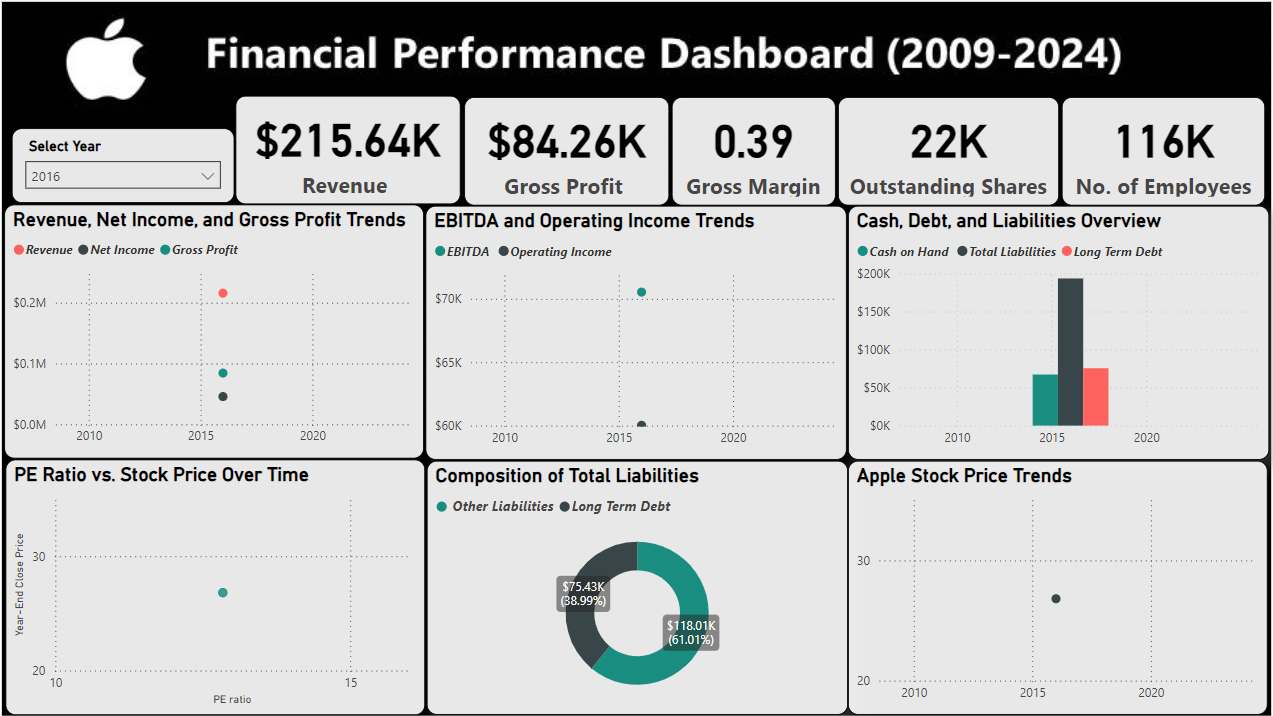

This screenshot's page, from the dashboard's own definition file:
{"tool":"powerbi","page":{"name":"Page 1","canvas":[1280,720],"ordinal":0},"visuals":[{"type":"image","box":[0,0,1280.3,720.4],"z":500},{"type":"lineChart","title":"Revenue, Net Income, and Gross Profit Trends","fields":{"Category":["Apple finance.year"],"Y":["Sum(Apple finance.Revenue (millions))","Sum(Apple finance.Net Income (millions))","Sum(Apple finance.Gross Profit (millions))"]},"box":[11.2,206.5,418,253],"z":1000},{"type":"lineChart","title":"EBITDA and Operating Income Trends","fields":{"Category":["Apple finance.year"],"Y":["Sum(Apple finance.EBITDA (millions))","Sum(Apple finance.Operating Income (millions))"]},"box":[430.4,207.7,419.2,253],"z":2000},{"type":"clusteredColumnChart","title":"Cash, Debt, and Liabilities Overview","fields":{"Category":["Apple finance.year"],"Y":["Sum(Apple finance.Cash on Hand (millions))","Sum(Apple finance.Total Liabilities (millions))","Sum(Apple finance.Long Term Debt (millions))"]},"box":[850.9,207.7,419.2,253],"z":3000},{"type":"donutChart","title":"Composition of Total Liabilities","fields":{"Y":["Sum(Apple finance.Other Liabilities)","Sum(Apple finance.Long Term Debt (millions))"]},"box":[431.7,461.5,419.2,252.5],"z":4000},{"type":"lineChart","title":"Apple Stock Price Trends","fields":{"Category":["Apple finance.year"],"Y":["Sum(Apple finance.Year Close Price)"]},"box":[850.9,461.5,418,253],"z":5000},{"type":"card","fields":{"Values":["Sum(Apple finance.Revenue (millions))"]},"box":[241.3,98.3,223.9,108.2],"z":6000},{"type":"card","fields":{"Values":["Sum(Apple finance.Gross Profit (millions))"]},"box":[469,99.5,204,108.2],"z":7000},{"type":"card","fields":{"Values":["Sum(Apple finance.Shares Outstanding)"]},"box":[840.9,99.5,220.2,108.2],"z":8000},{"type":"card","fields":{"Values":["Sum(Apple finance.Gross Margin)"]},"box":[675.5,99.5,163,108.2],"z":9000},{"type":"slicer","fields":{"Values":["Apple finance.year"]},"box":[18.7,130.6,221.4,74.6],"z":10000},{"type":"card","fields":{"Values":["Sum(Apple finance.Employees)"]},"box":[1063.6,99.5,202.8,108.2],"z":11000},{"type":"scatterChart","title":"PE Ratio vs. Stock Price Over Time","fields":{"X":["Sum(Apple finance.PE ratio)"],"Y":["Sum(Apple finance.Year Close Price)"],"Category":["Apple finance.year"]},"box":[12.4,460.3,418,254],"z":12000}]}

Visuals, with their boxes in screenshot pixels (x1, y1, x2, y2), scaled from the page's 1280x720 canvas onto the 1273x716 screenshot:
image: l=0, t=0, r=1272, b=715
"Revenue, Net Income, and Gross Profit Trends" lineChart: l=11, t=205, r=427, b=457
"EBITDA and Operating Income Trends" lineChart: l=428, t=207, r=845, b=458
"Cash, Debt, and Liabilities Overview" clusteredColumnChart: l=846, t=207, r=1263, b=458
"Composition of Total Liabilities" donutChart: l=429, t=459, r=846, b=710
"Apple Stock Price Trends" lineChart: l=846, t=459, r=1262, b=711
card - Sum(Apple finance.Revenue (millions)): l=240, t=98, r=463, b=205
card - Sum(Apple finance.Gross Profit (millions)): l=466, t=99, r=669, b=207
card - Sum(Apple finance.Shares Outstanding): l=836, t=99, r=1055, b=207
card - Sum(Apple finance.Gross Margin): l=672, t=99, r=834, b=207
slicer - Apple finance.year: l=19, t=130, r=239, b=204
card - Sum(Apple finance.Employees): l=1058, t=99, r=1259, b=207
"PE Ratio vs. Stock Price Over Time" scatterChart: l=12, t=458, r=428, b=710
